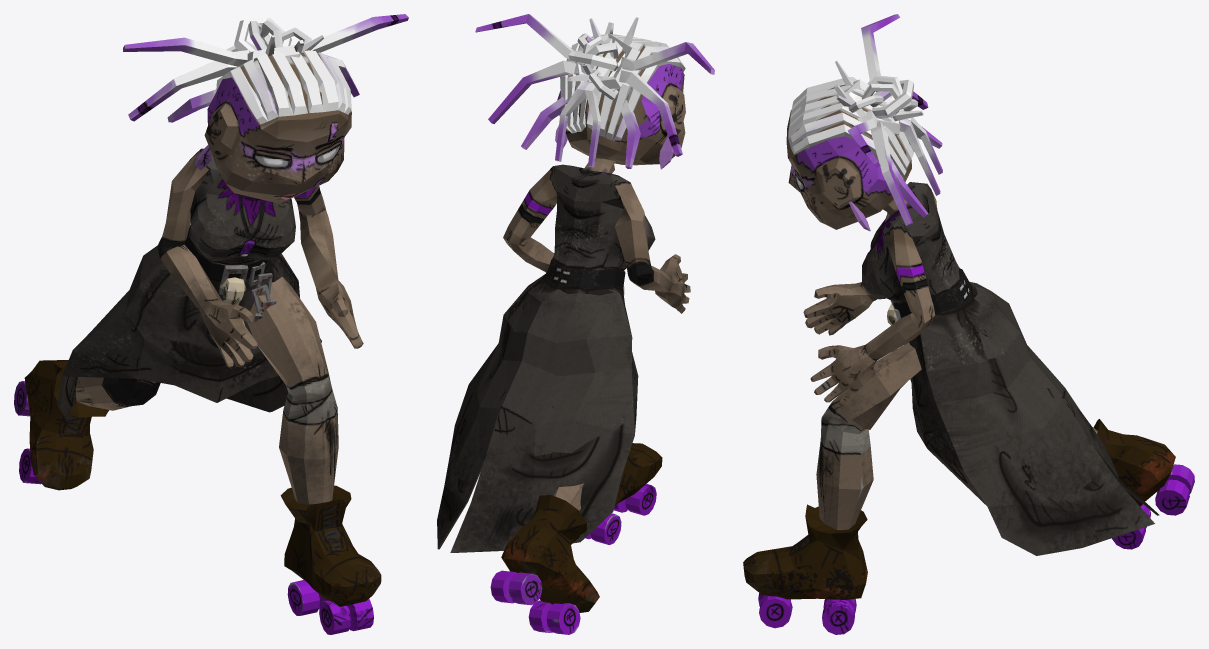
File: bruja_000005.obj
3 renders of one model, left to right at view 1: azimuth 30°, elevation 25°; view 2: azimuth 150°, elevation 25°; view 3: azimuth 270°, elevation 25°, orthographic. The views are drawn at different scales.
Parts seen in each view (by area): view 1: Bruja_Plane.001; view 2: Bruja_Plane.001; view 3: Bruja_Plane.001.
Part boxes in pixels (x1,y1,x2,y2): Bruja_Plane.001: (14, 14, 408, 634); Bruja_Plane.001: (437, 14, 714, 634); Bruja_Plane.001: (743, 14, 1194, 634).
Size of the model in its own units: 7.43 by 15.26 by 11.41.
